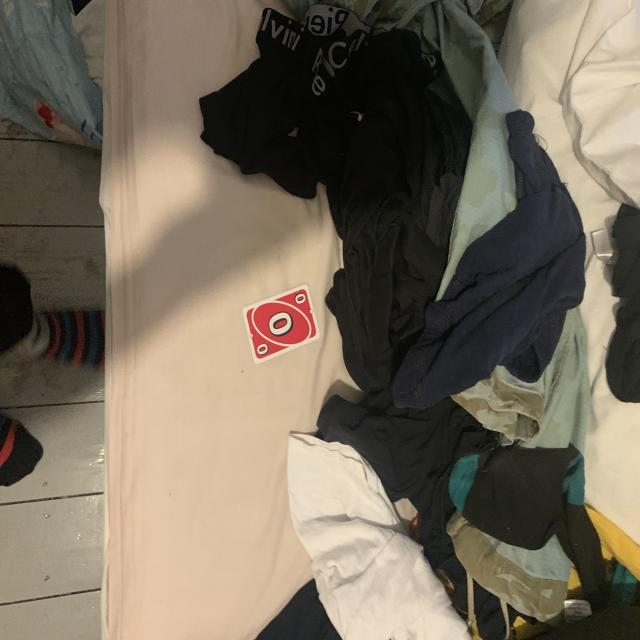lred-0: (293, 290, 309, 307)
